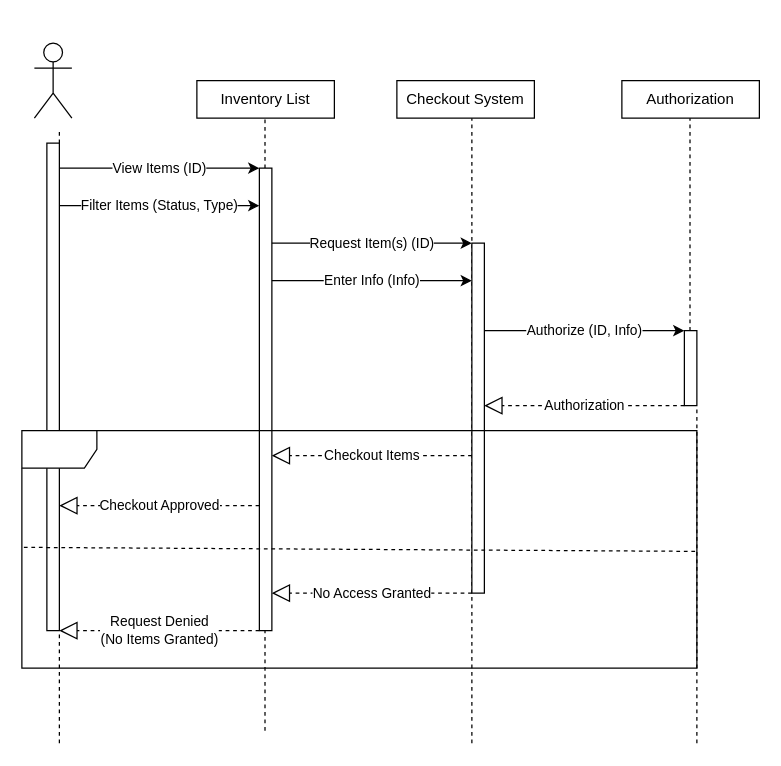
This 781x766 diagram has some shape labels left out. The box of each missing label's shape, as (x1, y1, x2, y2) in pixels:
alt: (21, 429, 697, 668)
Borrower: (33, 42, 72, 118)
